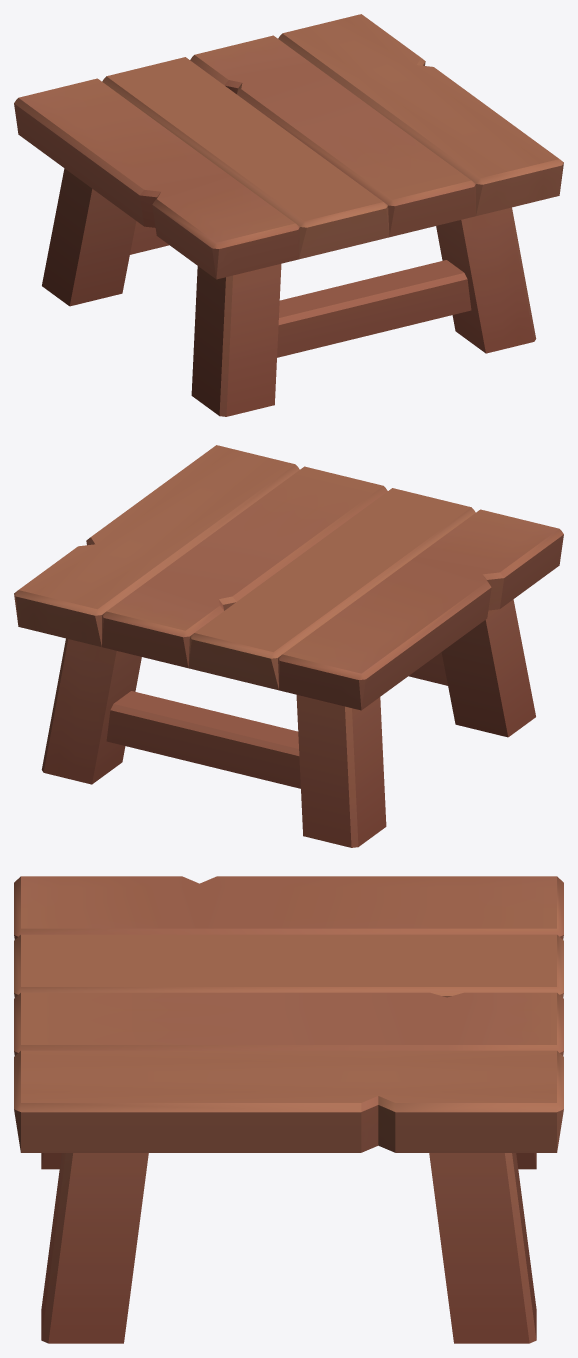
The model's file is d_kaykit_table.glb.
3 views of the same model, one above another, from view 1: azimuth 30°, elevation 25°; view 2: azimuth 150°, elevation 25°; view 3: azimuth 270°, elevation 25° (orthographic). The views are drawn at different scales.
Parts seen in each view (by area): view 1: d_kaykit_table; view 2: d_kaykit_table; view 3: d_kaykit_table.
Boxes of the visible parts, x1,y1,x2,y2 form: d_kaykit_table: (14,14,563,416); d_kaykit_table: (14,445,563,847); d_kaykit_table: (14,876,563,1343).
Size of the model in its own units: 2 by 0.9998 by 2.
1 material, 1 textured.
